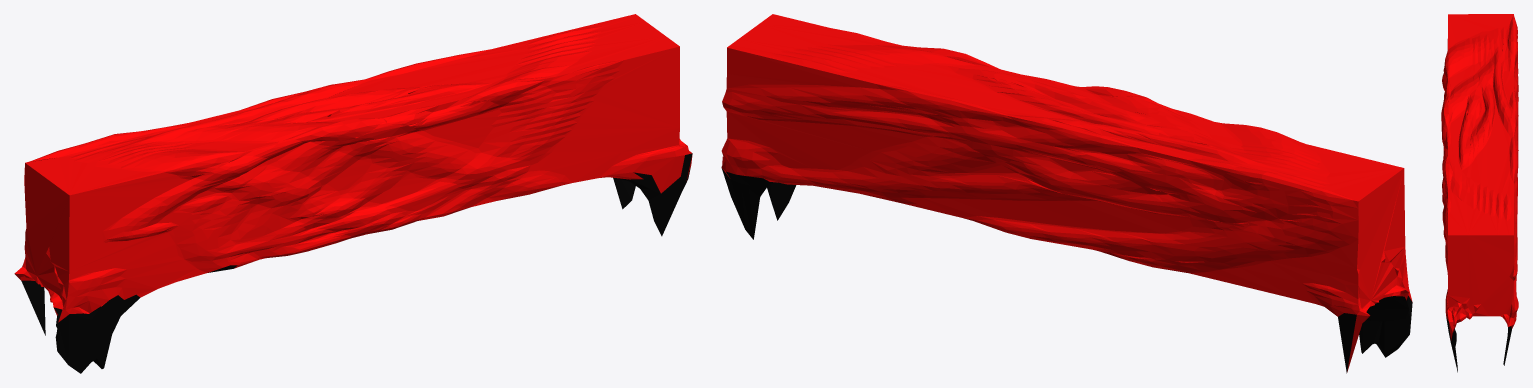
Rendered from car.fbx.
3 renders of one model, left to right at view 1: azimuth 30°, elevation 25°; view 2: azimuth 150°, elevation 25°; view 3: azimuth 270°, elevation 25°, orthographic. The views are drawn at different scales.
Visible parts, largest first — view 1: Cube; view 2: Cube; view 3: Cube.
Part boxes in pixels (x1,y1,x2,y2): Cube: (14, 14, 692, 373); Cube: (721, 14, 1412, 373); Cube: (1441, 14, 1518, 372).
Size of the model in its own units: 2.35 by 4.97 by 16.56.
